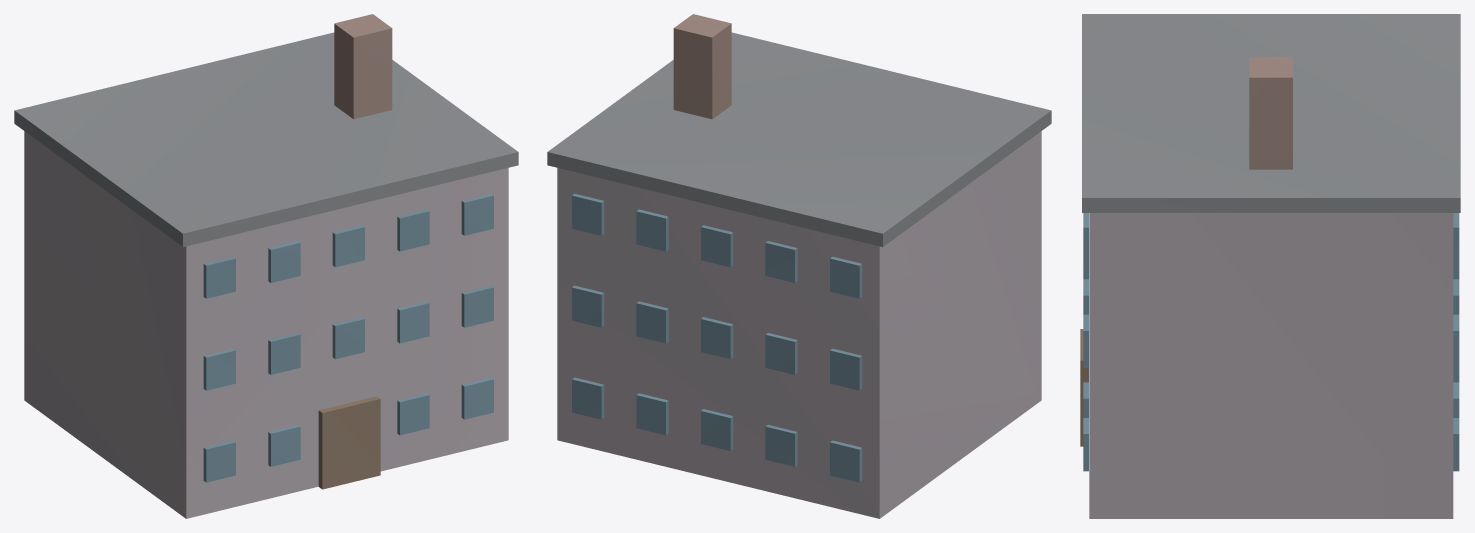
Rendered from factory-05.glb.
The picture shows the model from 3 angles, left to right: view 1: azimuth 30°, elevation 25°; view 2: azimuth 150°, elevation 25°; view 3: azimuth 270°, elevation 25°; orthographic projection. The views are drawn at different scales.
Parts seen in each view (by area): view 1: world; view 2: world; view 3: world.
Boxes of the visible parts, x1,y1,x2,y2 form: world: (14, 14, 518, 518); world: (547, 14, 1051, 518); world: (1080, 14, 1460, 518).
Bounding box in the file's own units: 1.84 × 1.94 × 1.61.
